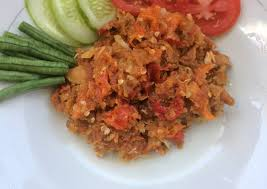ayam_geprek: (3, 44, 246, 159)
